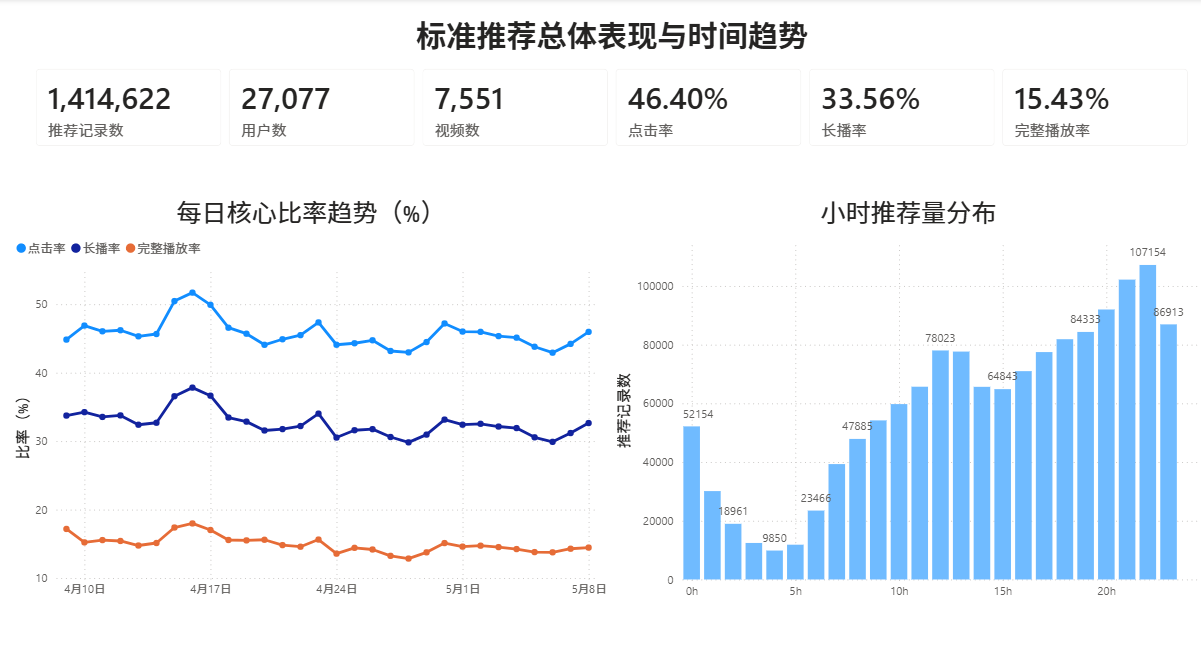

The dashboard page shown, as its layout file describes it:
{"tool":"powerbi","page":{"name":"总体与趋势","canvas":[1280,720],"ordinal":0},"visuals":[{"type":"cardVisual","title":"标准推荐总体表现与时间趋势","fields":{"Data":["Sum(kuairand_analytics vw_metric_overall_standard.recommendation_records)","Sum(kuairand_analytics vw_metric_overall_standard.unique_users)","Sum(kuairand_analytics vw_metric_overall_standard.unique_videos)","Sum(kuairand_analytics vw_metric_overall_standard.click_rate_pct)","Sum(kuairand_analytics vw_metric_overall_standard.long_view_rate_pct)","Sum(kuairand_analytics vw_metric_overall_standard.complete_play_rate_pct)"]},"box":[23.3,15,1256.7,160],"z":0},{"type":"lineChart","title":"每日核心比率趋势（%）","fields":{"Y":["Avg(kuairand_analytics vw_metric_daily_standard.click_rate_pct)","Avg(kuairand_analytics vw_metric_daily_standard.long_view_rate_pct)","Avg(kuairand_analytics vw_metric_daily_standard.complete_play_rate_pct)"],"Category":["kuairand_analytics vw_metric_daily_standard.date_clean"]},"box":[14.3,207.1,637.1,438.6],"z":1000},{"type":"clusteredColumnChart","title":"小时推荐量分布","fields":{"Category":["kuairand_analytics vw_metric_hourly_standard.hour"],"Y":["Sum(kuairand_analytics vw_metric_hourly_standard.recommendation_records)"]},"box":[651.7,206.7,628.3,440],"z":2000}]}

Visuals, with their boxes in screenshot pixels (x1, y1, x2, y2), scaled from the page's 1280x720 canvas onto the 1201x664 screenshot:
"标准推荐总体表现与时间趋势" cardVisual: (22, 14, 1200, 161)
"每日核心比率趋势（%）" lineChart: (13, 191, 611, 595)
"小时推荐量分布" clusteredColumnChart: (611, 191, 1200, 596)
